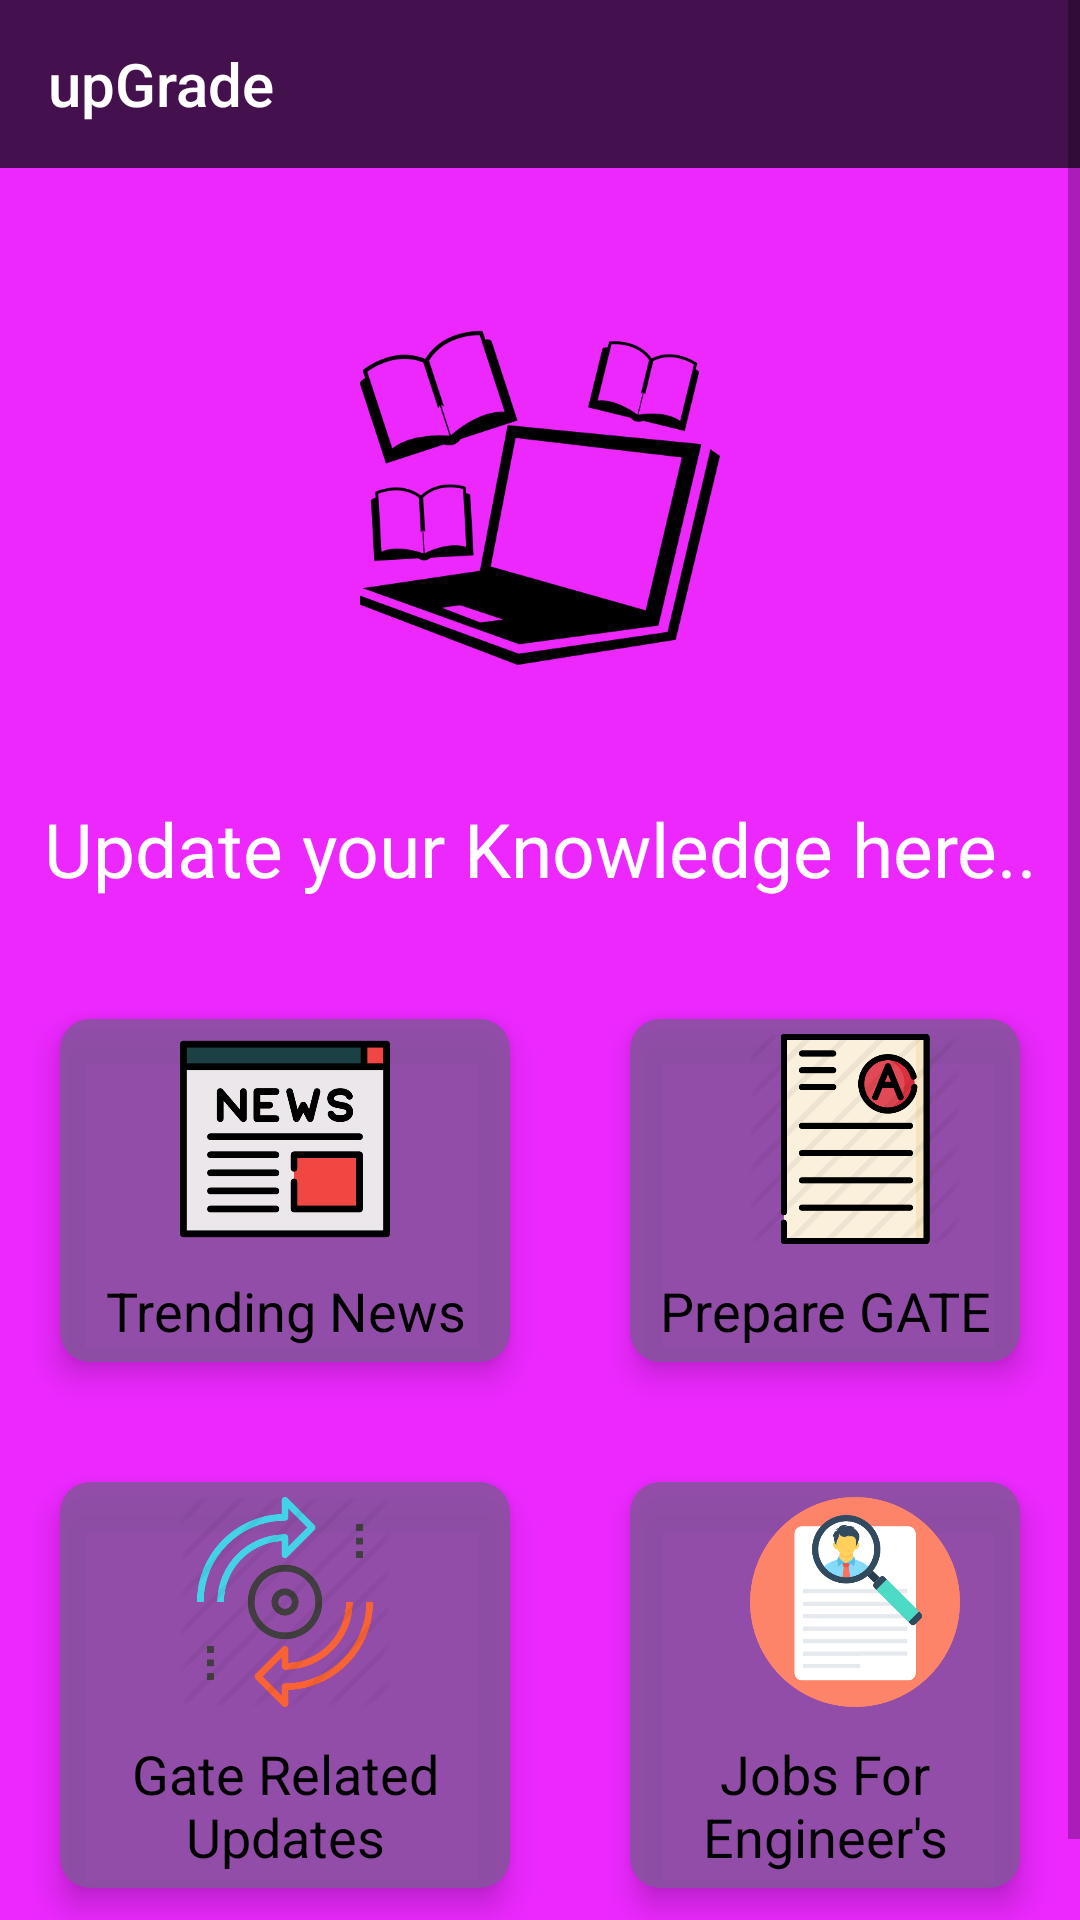

Screen size 1080px x 1920px. Icon name, then its center in pixels as point (x, y):
newscard: point (285, 1139)
study lappy: point (540, 498)
